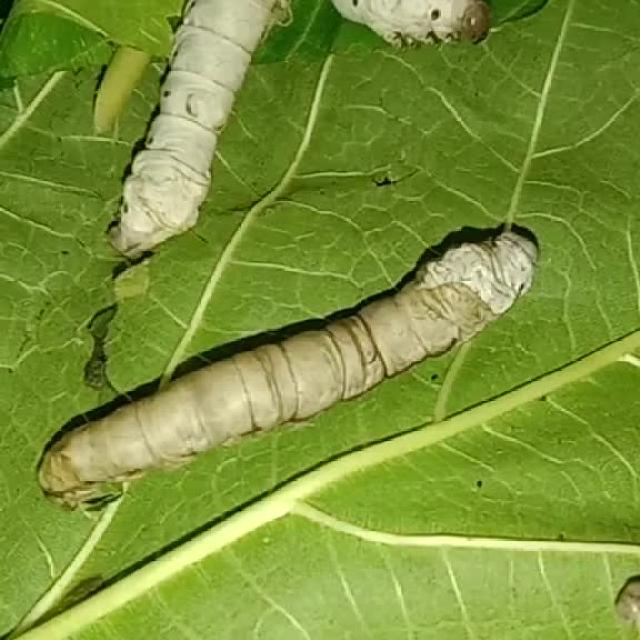Grasserie: (17, 213, 573, 521)
